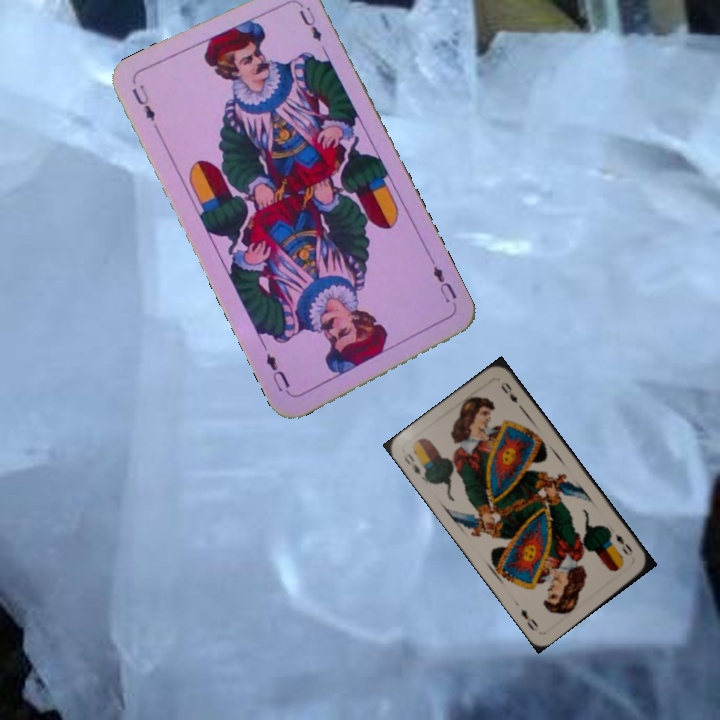EO: (611, 530, 635, 559), (400, 449, 424, 477)
EU: (427, 257, 460, 312), (128, 80, 158, 124)
